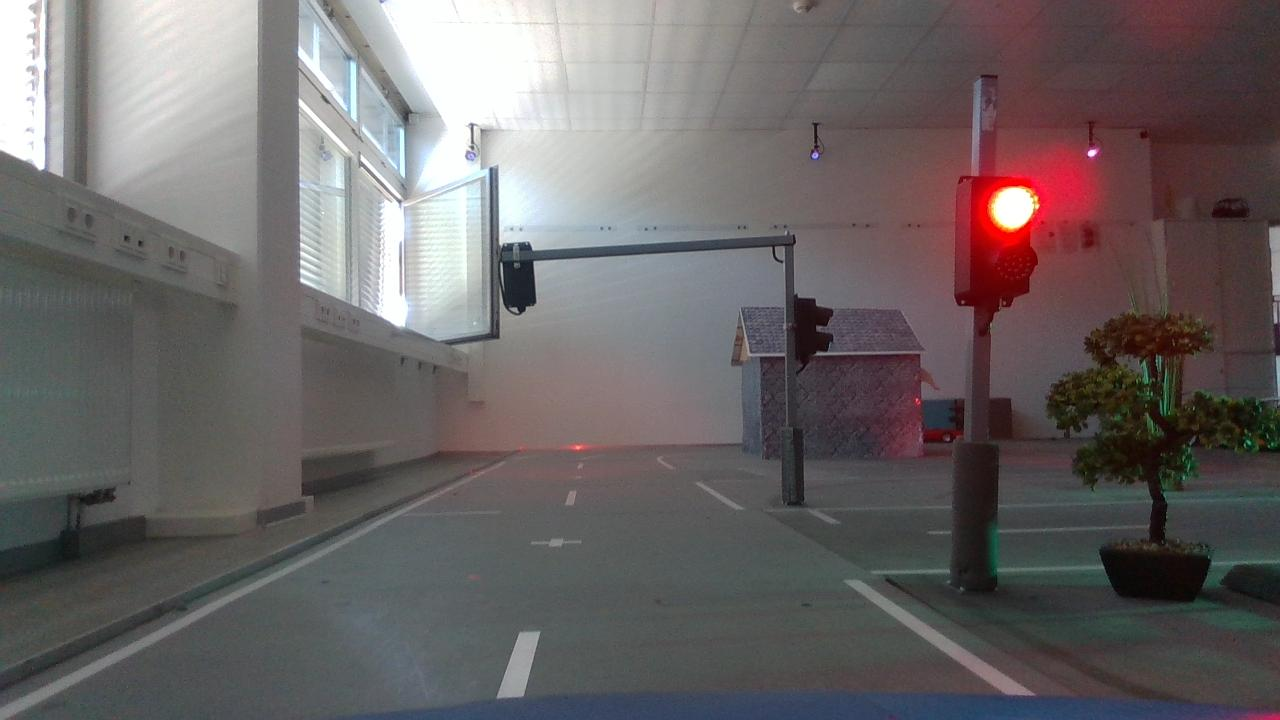traffic_light_red: (935, 159, 1060, 327)
